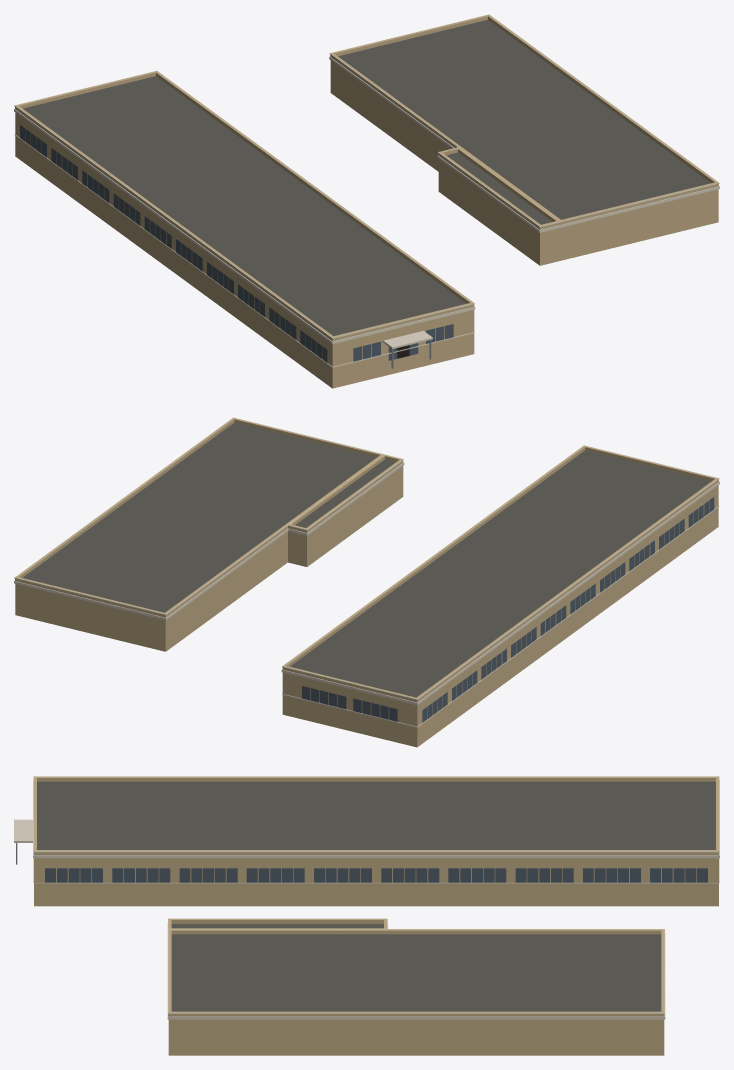
The model's file is oak-grove-elementary.glb.
The picture shows the model from 3 angles, top to bottom: view 1: azimuth 30°, elevation 25°; view 2: azimuth 150°, elevation 25°; view 3: azimuth 270°, elevation 25°; orthographic projection. The views are drawn at different scales.
Parts seen in each view (by area): view 1: oak_grove_elementary; view 2: oak_grove_elementary; view 3: oak_grove_elementary.
Part boxes in pixels (<box>): oak_grove_elementary: <box>14,14,719,388</box>; oak_grove_elementary: <box>14,417,719,747</box>; oak_grove_elementary: <box>14,776,719,1055</box>.
Size of the model in its own units: 66.74 by 7.21 by 84.02.
